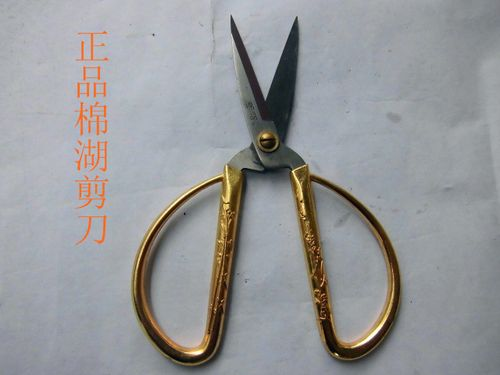scissor: (132, 13, 403, 368)
